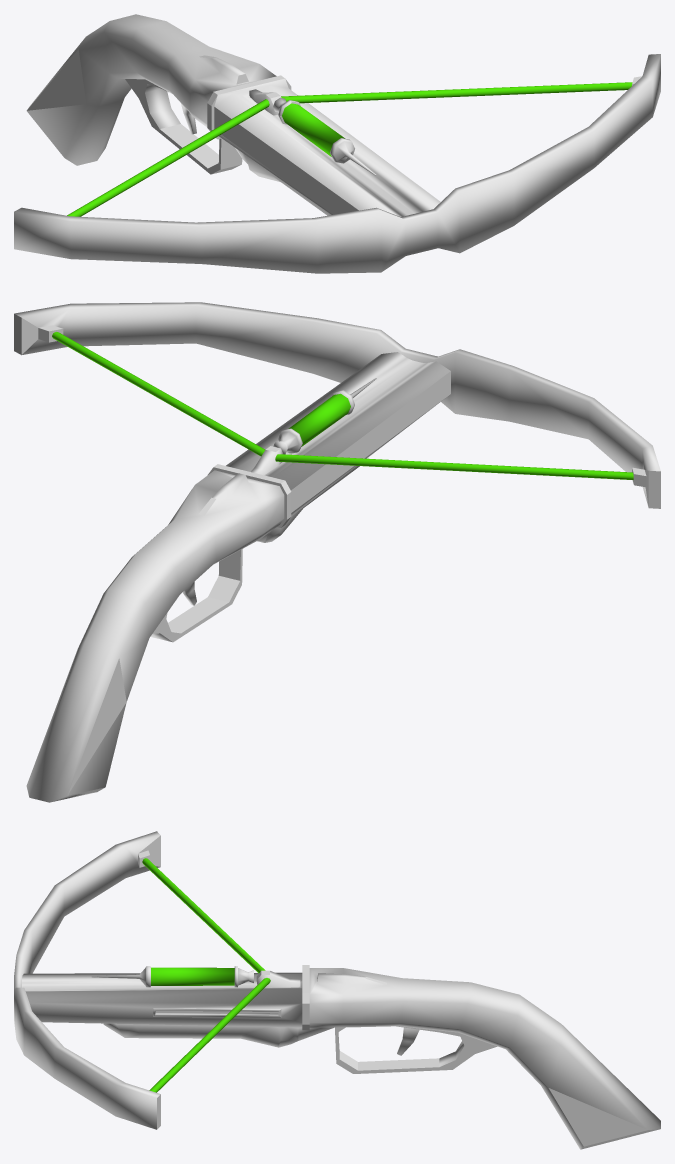
File: CrossbowShoot.dae
The picture shows the model from 3 angles, top to bottom: view 1: azimuth 30°, elevation 25°; view 2: azimuth 150°, elevation 25°; view 3: azimuth 270°, elevation 25°; orthographic projection. The views are drawn at different scales.
Parts seen in each view (by area): view 1: Crossbow; view 2: Crossbow; view 3: Crossbow.
Part boxes in pixels (left/top/right/bottom): Crossbow: left=14, top=14, right=660, bottom=273; Crossbow: left=14, top=302, right=660, bottom=802; Crossbow: left=14, top=831, right=660, bottom=1149.
Bounding box in the file's own units: 0.488 × 0.4998 × 0.1541.
